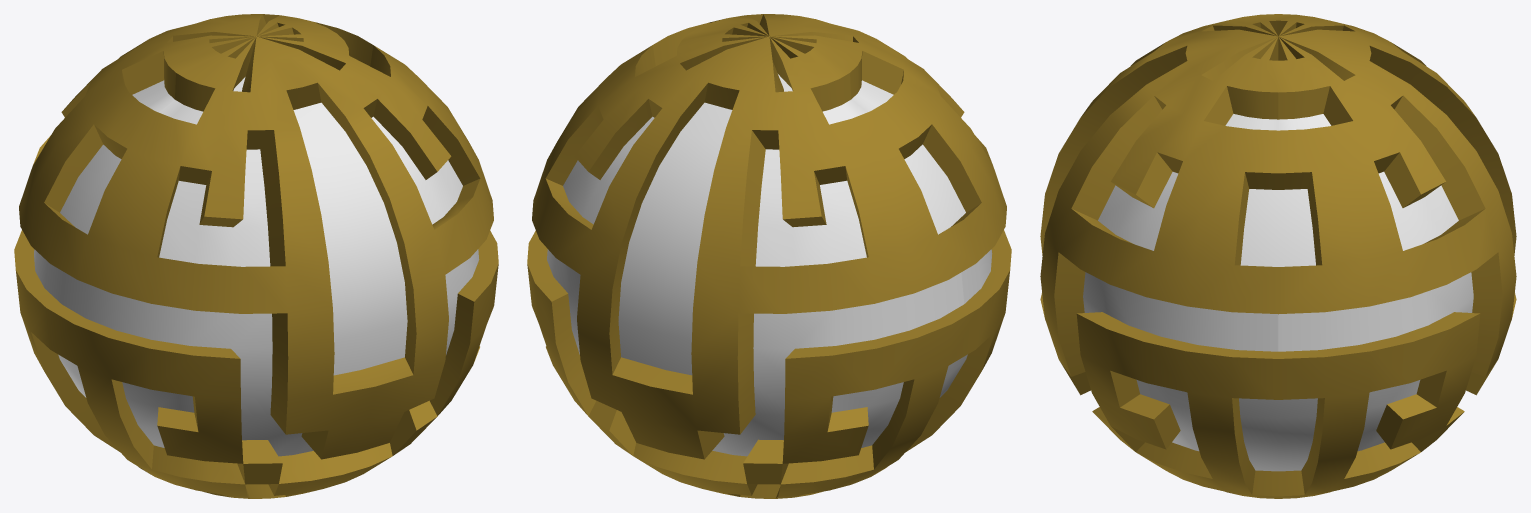
Rendered from team sigmar power up sphere.fbx.
3 renders of one model, left to right at view 1: azimuth 30°, elevation 25°; view 2: azimuth 150°, elevation 25°; view 3: azimuth 270°, elevation 25°, orthographic.
Visible parts, largest first — view 1: Sphere; view 2: Sphere; view 3: Sphere.
Boxes of the visible parts, x1,y1,x2,y2 form: Sphere: [14, 14, 498, 498]; Sphere: [527, 14, 1011, 498]; Sphere: [1040, 14, 1516, 498].
Size of the model in its own units: 200 by 200 by 196.
